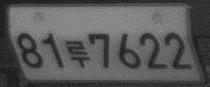1: (41, 32, 63, 68)
2: (165, 30, 194, 71), (139, 30, 168, 70)
6: (117, 32, 141, 70)
7: (85, 31, 110, 69)
8: (16, 30, 43, 69)
루: (64, 37, 92, 69)
